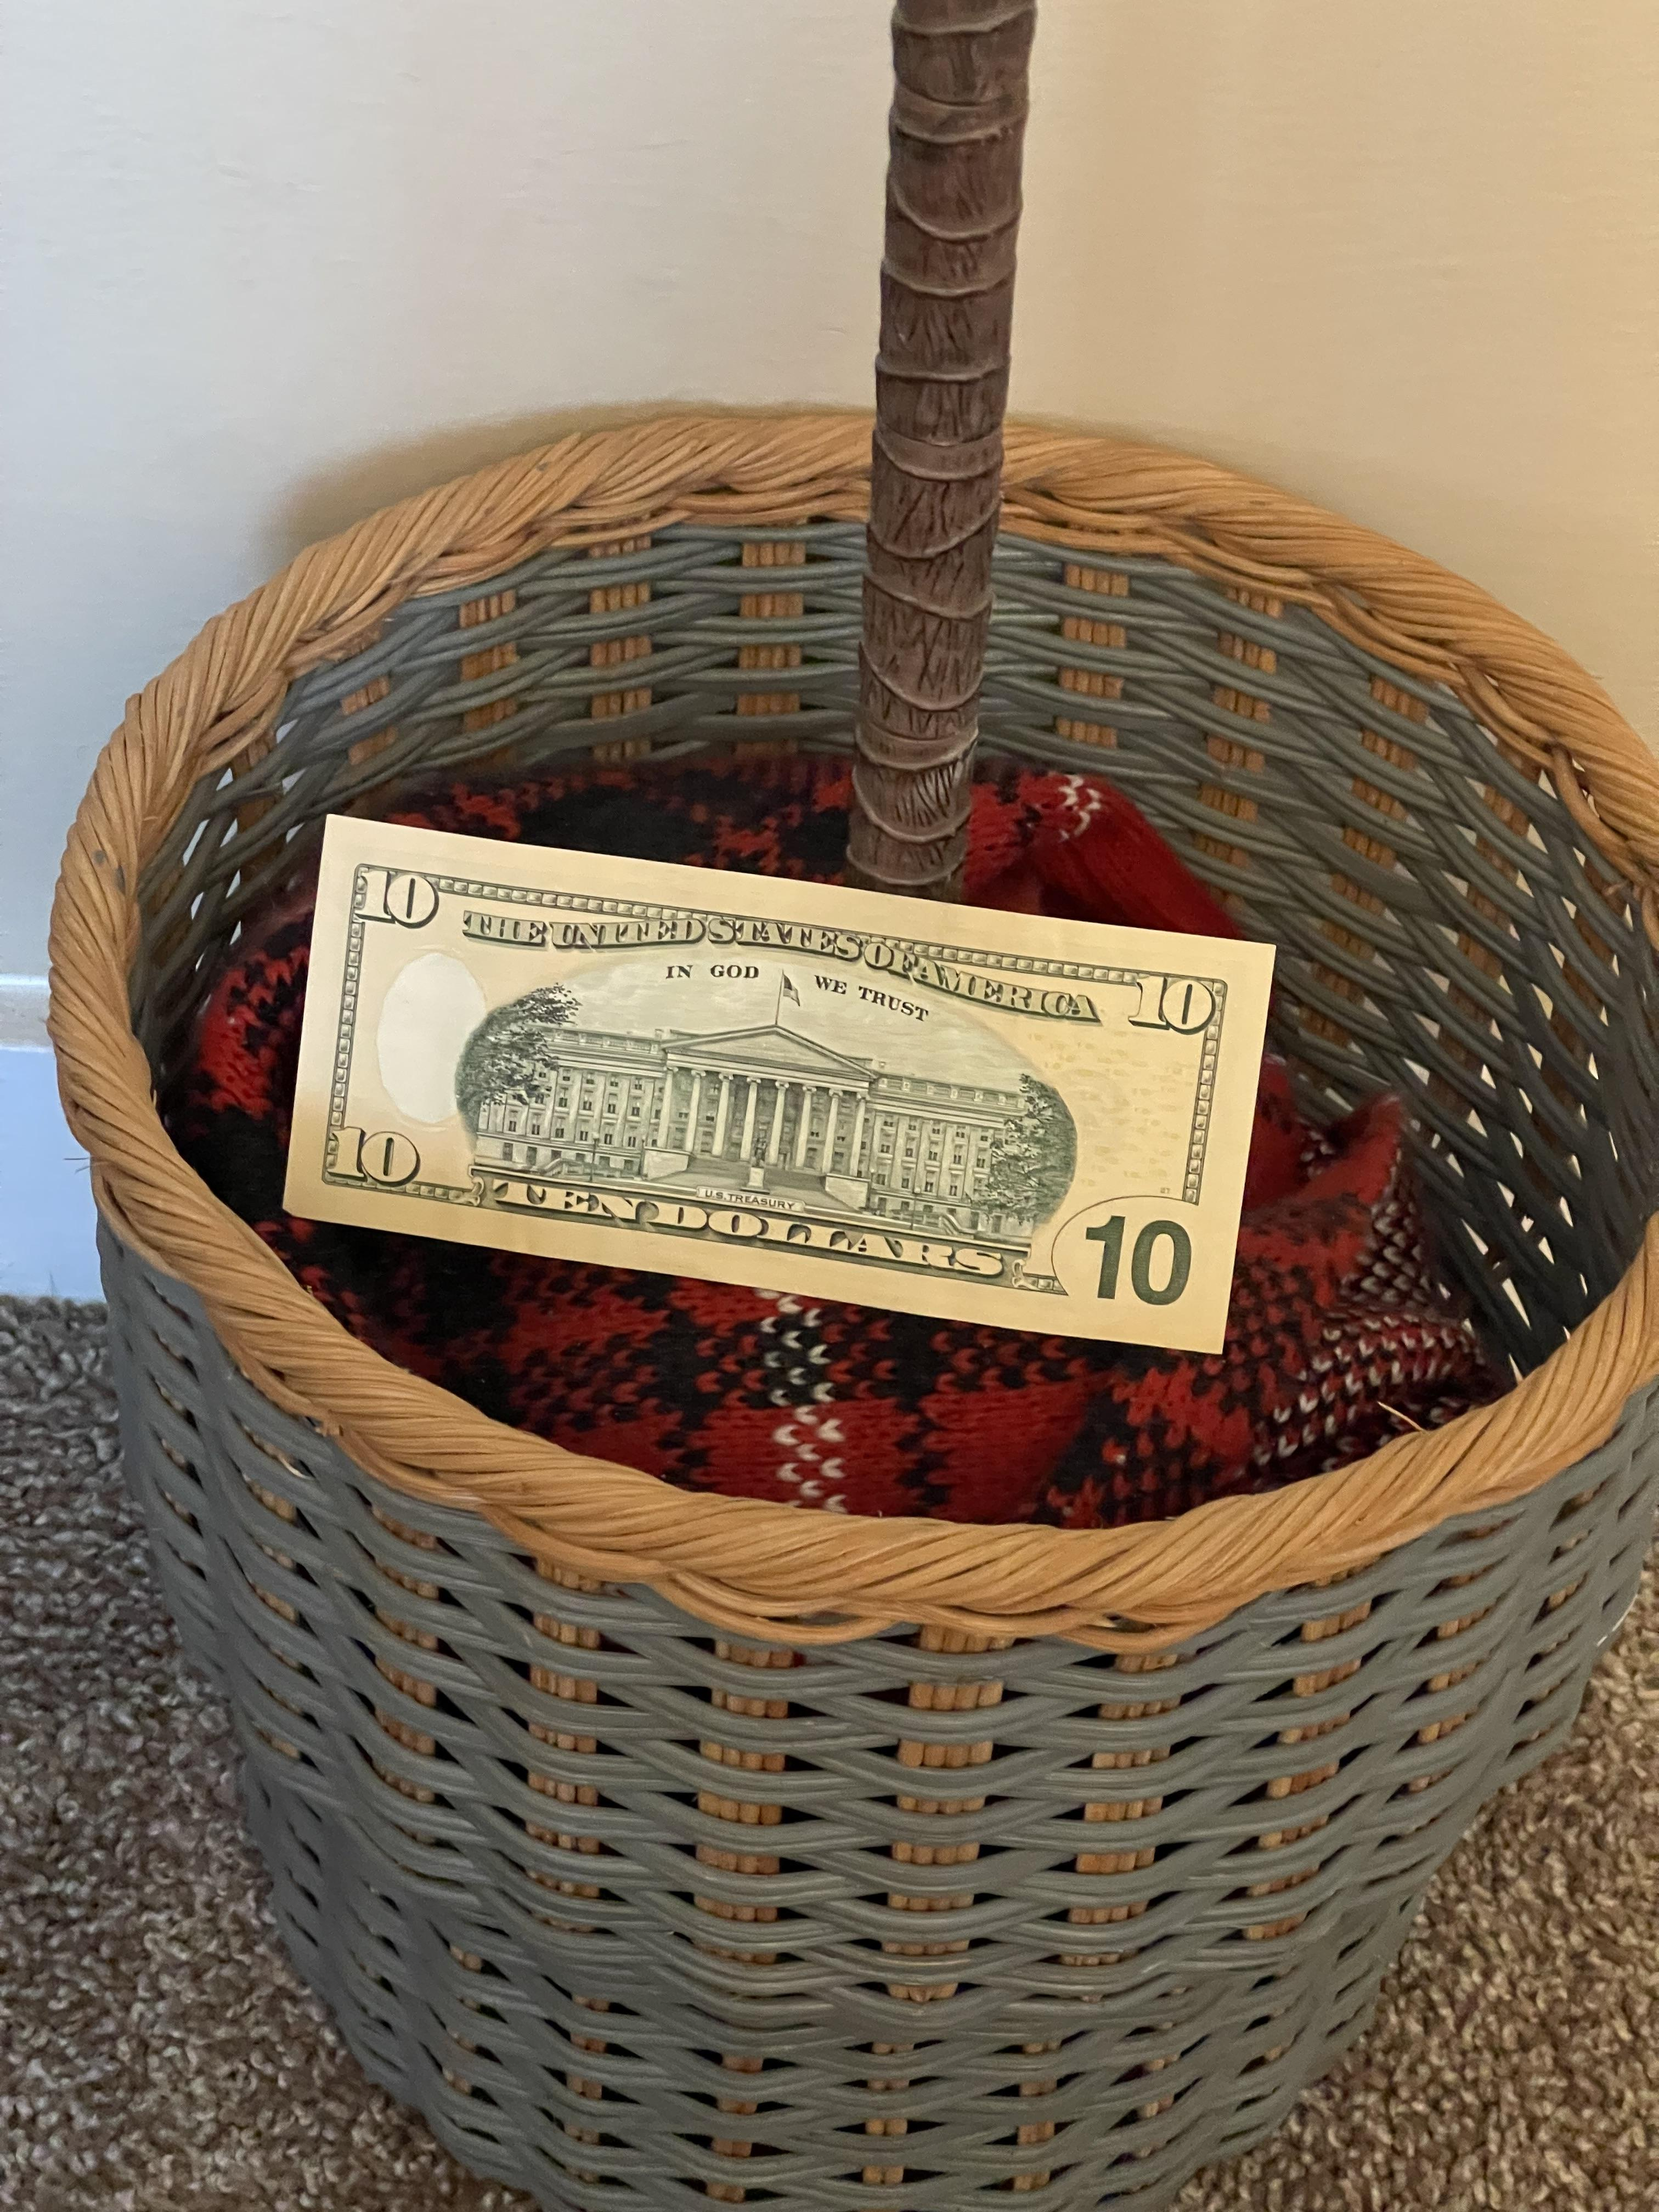TenBill: (277, 812, 1279, 1357)
